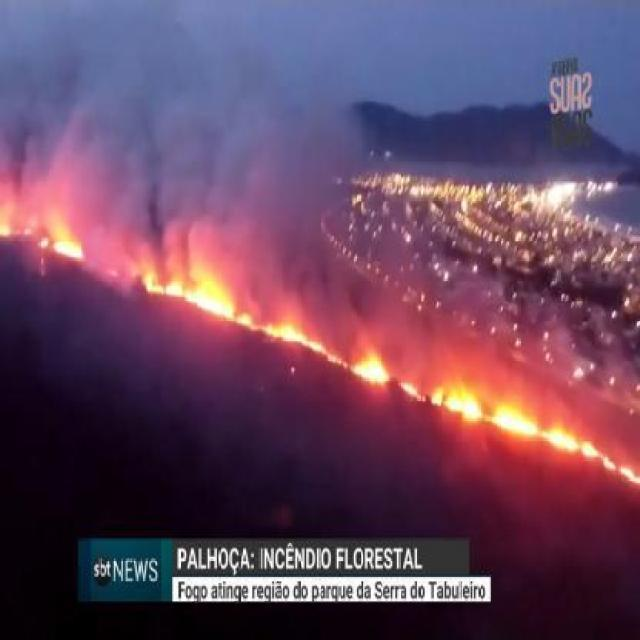Fire: (143, 270, 388, 384), (434, 393, 638, 484), (42, 230, 84, 264), (400, 380, 426, 405), (0, 220, 12, 237)
